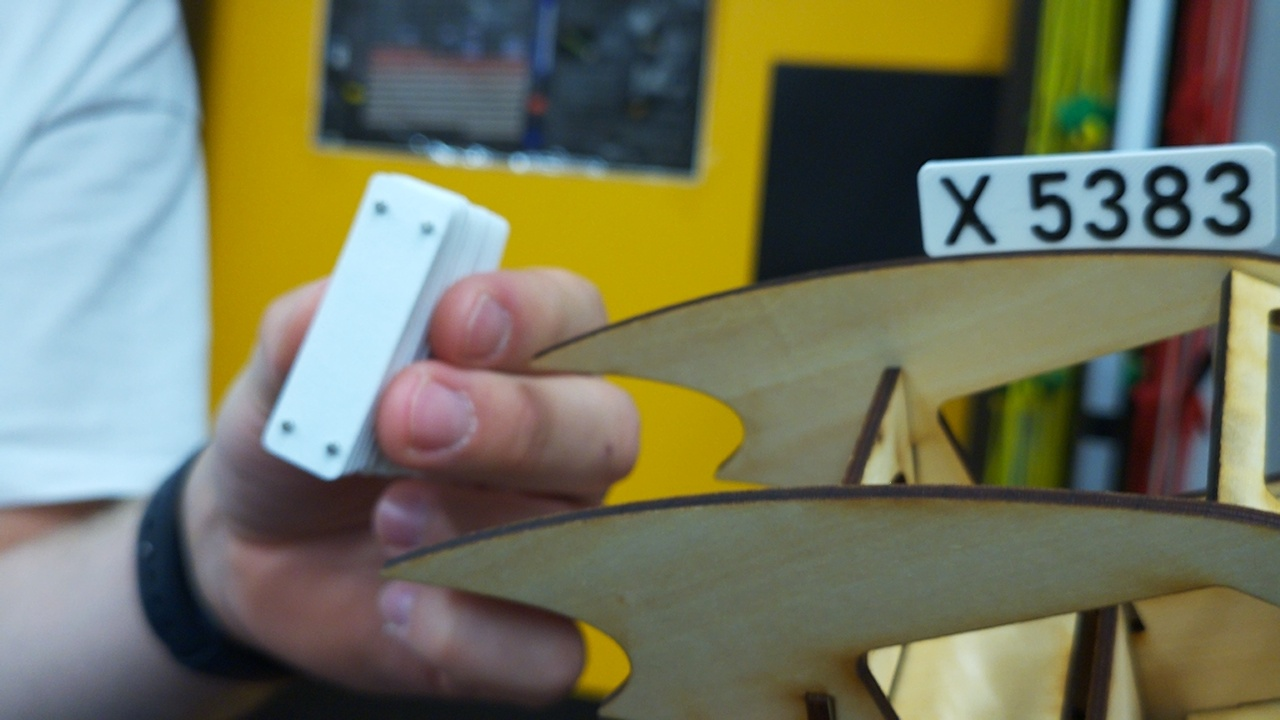license_plate: (912, 142, 1280, 262)
